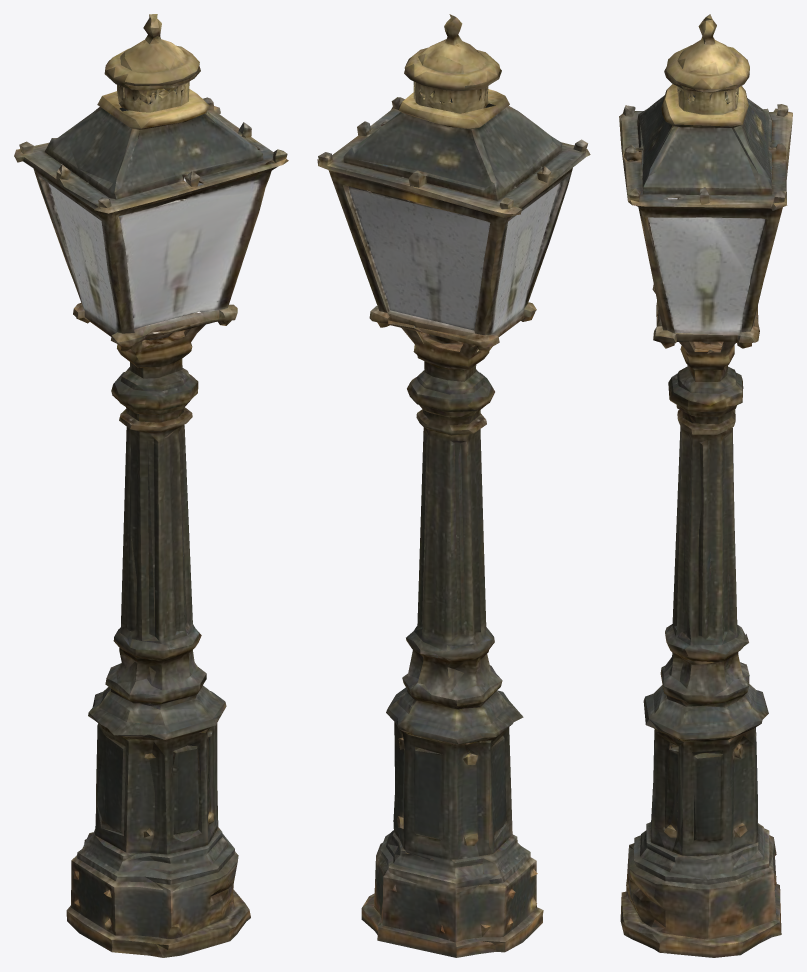
3 renders of one model, left to right at view 1: azimuth 30°, elevation 25°; view 2: azimuth 150°, elevation 25°; view 3: azimuth 270°, elevation 25°, orthographic.
Visible parts, largest first — view 1: Mindflower_V15_station_gas_lamp_baked; view 2: Mindflower_V15_station_gas_lamp_baked; view 3: Mindflower_V15_station_gas_lamp_baked.
Part boxes in pixels (x1,y1,x2,y2): Mindflower_V15_station_gas_lamp_baked: (14,14,288,957); Mindflower_V15_station_gas_lamp_baked: (317,14,590,957); Mindflower_V15_station_gas_lamp_baked: (619,14,792,957).
Bounding box in the file's own units: 0.231 × 0.9837 × 0.1714.
Materials: 1 (1 with a texture image).
